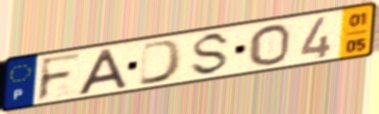4: (298, 14, 334, 59)
A: (75, 46, 131, 97)
D: (136, 37, 185, 87)
F: (35, 51, 85, 104)
O: (247, 23, 292, 67)
S: (187, 30, 234, 78)
